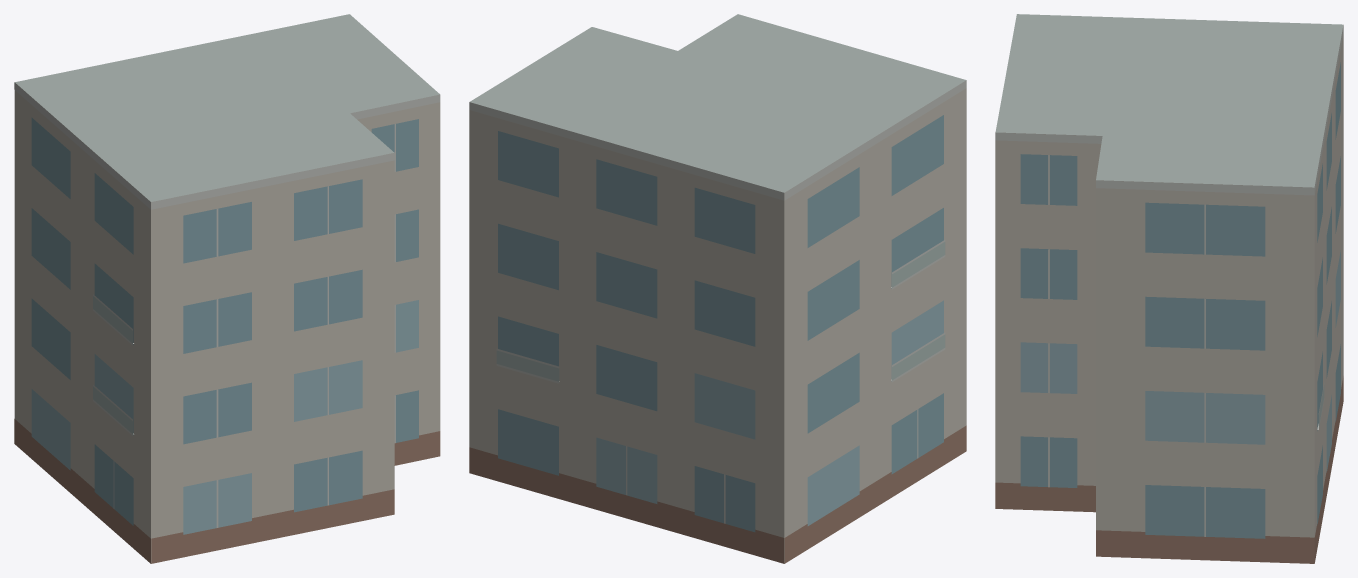
File: survey-upis-32806499.glb
3 views of the same model, side by side, from view 1: azimuth 30°, elevation 25°; view 2: azimuth 150°, elevation 25°; view 3: azimuth 270°, elevation 25° (orthographic). The views are drawn at different scales.
Parts seen in each view (by area): view 1: survey-upis-32806499.tmp; view 2: survey-upis-32806499.tmp; view 3: survey-upis-32806499.tmp.
Boxes of the visible parts, left/top/right/bottom form: survey-upis-32806499.tmp: left=14, top=14, right=440, bottom=563; survey-upis-32806499.tmp: left=469, top=14, right=966, bottom=563; survey-upis-32806499.tmp: left=995, top=14, right=1343, bottom=563.
Bounding box in the file's own units: 11.38 × 11.5 × 9.65.
